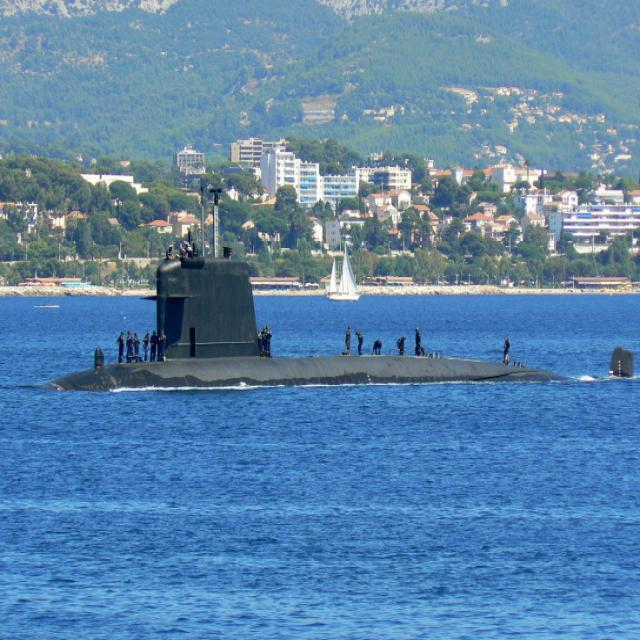submarine: (38, 264, 637, 383)
